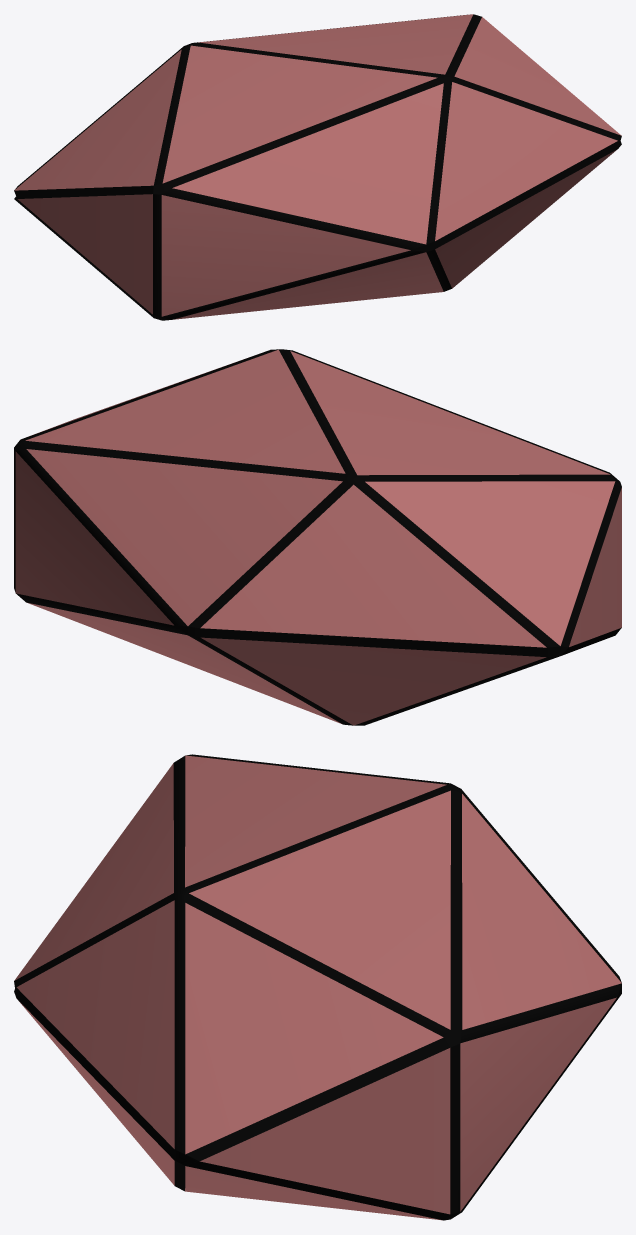
The model's file is Ruby.fbx.
3 views of the same model, one above another, from view 1: azimuth 30°, elevation 25°; view 2: azimuth 150°, elevation 25°; view 3: azimuth 270°, elevation 25° (orthographic). The views are drawn at different scales.
Visible parts, largest first — view 1: pPlatonic1; view 2: pPlatonic1; view 3: pPlatonic1.
Boxes of the visible parts, x1,y1,x2,y2 form: pPlatonic1: (14, 14, 621, 320); pPlatonic1: (14, 349, 621, 725); pPlatonic1: (14, 754, 621, 1220).
Size of the model in its own units: 2.66 by 1.06 by 1.97.
